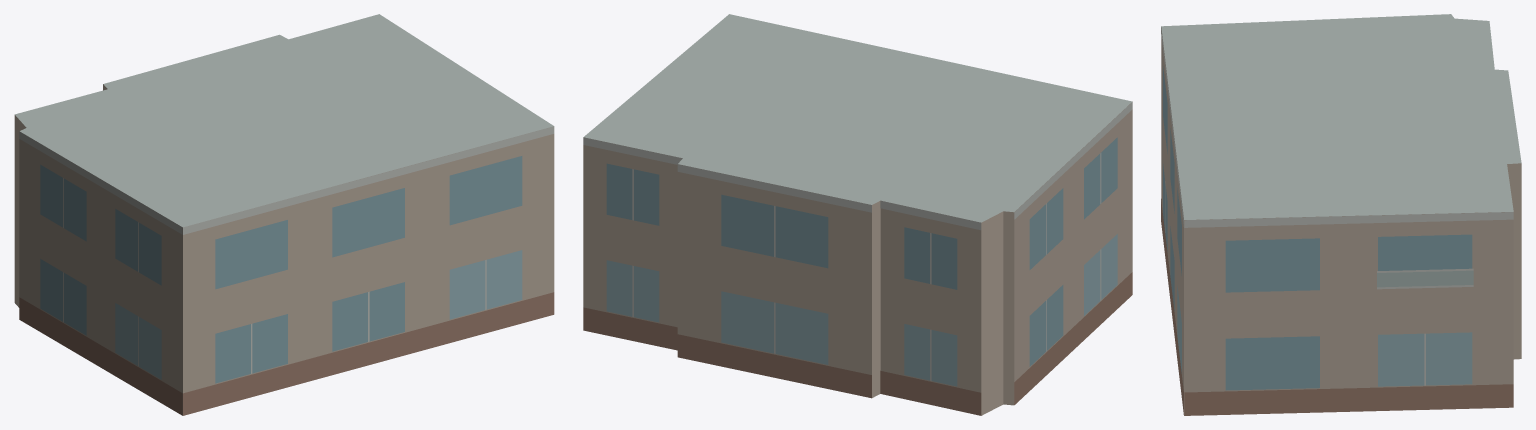
The model's file is survey-upis-32644856.glb.
3 views of the same model, side by side, from view 1: azimuth 30°, elevation 25°; view 2: azimuth 150°, elevation 25°; view 3: azimuth 270°, elevation 25° (orthographic). The views are drawn at different scales.
Parts seen in each view (by area): view 1: survey-upis-32644856.tmp; view 2: survey-upis-32644856.tmp; view 3: survey-upis-32644856.tmp.
Boxes of the visible parts, left/top/right/bottom form: survey-upis-32644856.tmp: left=14, top=14, right=554, bottom=415; survey-upis-32644856.tmp: left=583, top=14, right=1132, bottom=415; survey-upis-32644856.tmp: left=1161, top=14, right=1521, bottom=415.
Size of the model in its own units: 13.78 by 6.1 by 10.19.
